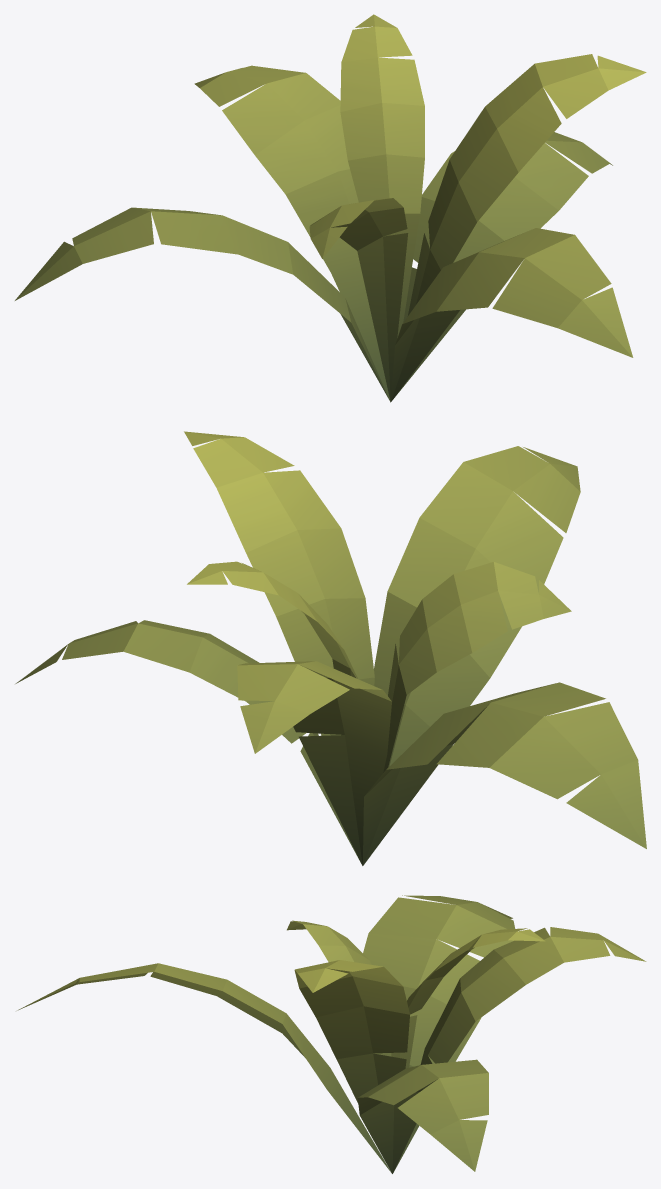
The model's file is Plant_01.fbx.
The picture shows the model from 3 angles, top to bottom: view 1: azimuth 30°, elevation 25°; view 2: azimuth 150°, elevation 25°; view 3: azimuth 270°, elevation 25°; orthographic projection. The views are drawn at different scales.
Visible parts, largest first — view 1: Plant_01; view 2: Plant_01; view 3: Plant_01.
Part boxes in pixels (box(x1,y1,x2,y2)): Plant_01: box(15, 14, 646, 402); Plant_01: box(15, 431, 646, 865); Plant_01: box(17, 895, 646, 1173).
Size of the model in its own units: 62.23 by 32.49 by 67.14.
